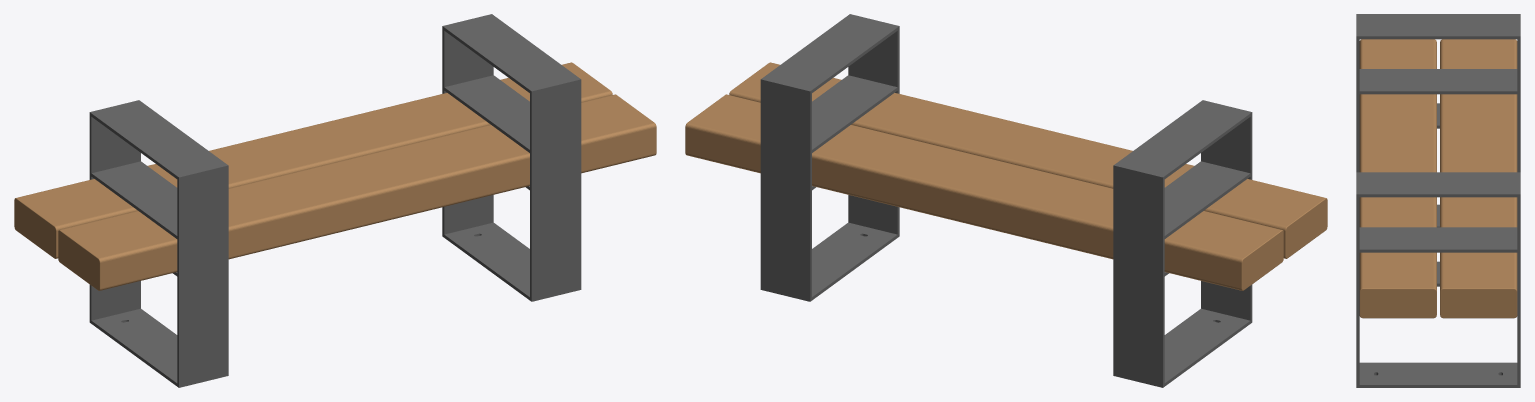
The model's file is Skamya_12.glb.
The picture shows the model from 3 angles, left to right: view 1: azimuth 30°, elevation 25°; view 2: azimuth 150°, elevation 25°; view 3: azimuth 270°, elevation 25°; orthographic projection. The views are drawn at different scales.
Parts seen in each view (by area): view 1: Fake; view 2: Fake; view 3: Fake.
Boxes of the visible parts, x1,y1,x2,y2 form: Fake: [14, 14, 656, 387]; Fake: [685, 14, 1327, 387]; Fake: [1356, 14, 1520, 387].
Size of the model in its own units: 1.8 by 0.65 by 0.5.
